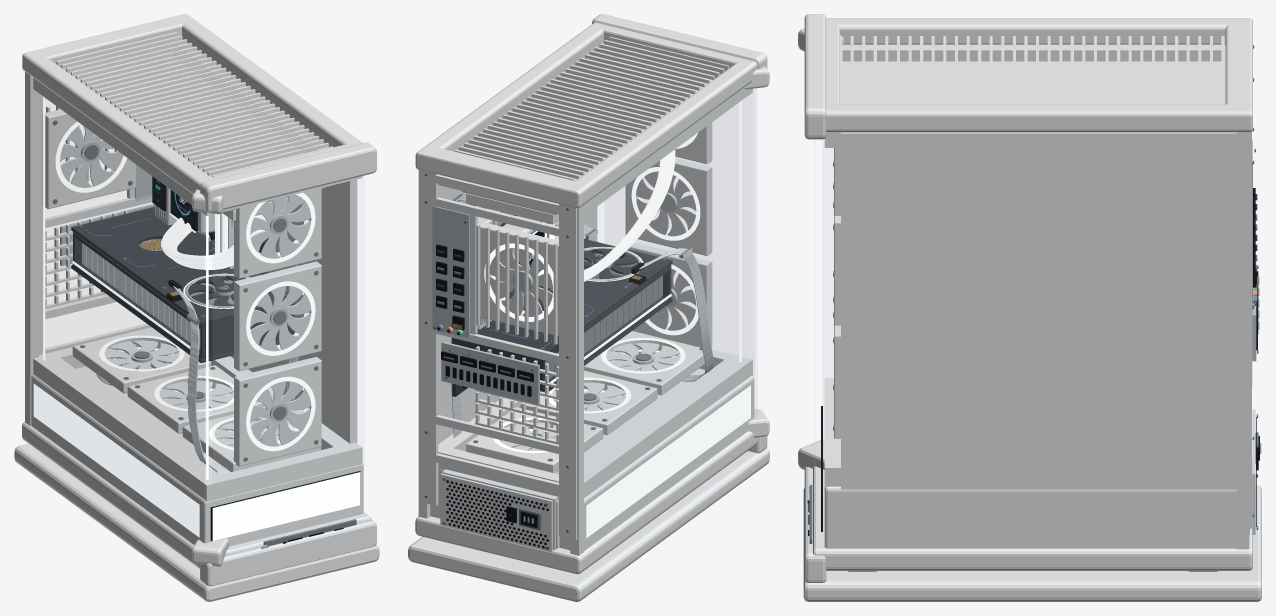
The model's file is showcase92-glacier.glb.
3 renders of one model, left to right at view 1: azimuth 30°, elevation 25°; view 2: azimuth 150°, elevation 25°; view 3: azimuth 270°, elevation 25°, orthographic. The views are drawn at different scales.
Visible parts, largest first — view 1: s83-surface-09804531-711c-4d88-8888-d662889631e3, s83-surface-17b3b7f9-21b8-483f-8949-42b9279ef76a, s83-surface-639436cb-5cf9-4382-8ab0-0e89b61add57, s83-fan-12, s83-fan-13, s83-fan-14, s83-fan-11, s83-fan-8, s83-fan-9, s83-fan-4, s83-surface-151ed20d-8e0e-4e69-bfa6-4123fc532601; view 2: s83-surface-09804531-711c-4d88-8888-d662889631e3, s83-surface-2fceb96a-0f0e-4792-b45c-3e605075e8c5, s83-surface-639436cb-5cf9-4382-8ab0-0e89b61add57, s83-surface-17b3b7f9-21b8-483f-8949-42b9279ef76a, s83-fan-13, s83-fan-11, s83-fan-10, s83-fan-12, s83-fan-4, s83-fan-9; view 3: s83-surface-09804531-711c-4d88-8888-d662889631e3.
Boxes of the visible parts, box(x1,y1,x2,y2) form: s83-surface-09804531-711c-4d88-8888-d662889631e3: box(14, 14, 379, 601); s83-surface-17b3b7f9-21b8-483f-8949-42b9279ef76a: box(33, 213, 360, 540); s83-surface-639436cb-5cf9-4382-8ab0-0e89b61add57: box(43, 96, 315, 479); s83-fan-12: box(250, 381, 311, 446); s83-fan-13: box(250, 286, 311, 351); s83-fan-14: box(250, 194, 311, 258); s83-fan-11: box(60, 125, 123, 187); s83-fan-8: box(104, 340, 179, 371); s83-fan-9: box(159, 380, 233, 411); s83-fan-4: box(185, 275, 245, 309); s83-surface-151ed20d-8e0e-4e69-bfa6-4123fc532601: box(171, 190, 194, 228); s83-surface-09804531-711c-4d88-8888-d662889631e3: box(408, 14, 769, 601); s83-surface-2fceb96a-0f0e-4792-b45c-3e605075e8c5: box(604, 88, 755, 375); s83-surface-639436cb-5cf9-4382-8ab0-0e89b61add57: box(484, 101, 741, 453); s83-surface-17b3b7f9-21b8-483f-8949-42b9279ef76a: box(542, 222, 750, 537); s83-fan-13: box(636, 171, 696, 236); s83-fan-11: box(490, 248, 552, 316); s83-fan-10: box(606, 342, 680, 373); s83-fan-12: box(649, 268, 696, 330); s83-fan-4: box(584, 248, 638, 282); s83-fan-9: box(552, 382, 625, 413); s83-surface-09804531-711c-4d88-8888-d662889631e3: box(798, 14, 1261, 601).
Bounding box in the file's own units: 1.37 × 3 × 2.56.
Materials: 23 (22 with a texture image).
